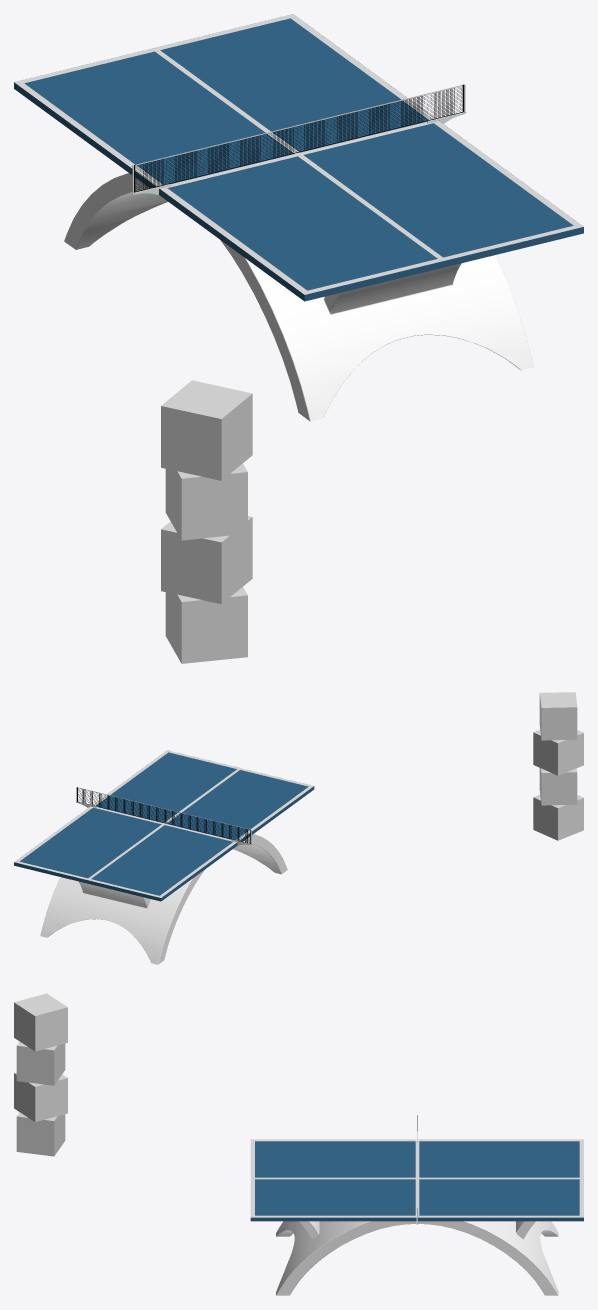
3 views of the same model, one above another, from view 1: azimuth 30°, elevation 25°; view 2: azimuth 150°, elevation 25°; view 3: azimuth 270°, elevation 25° (orthographic). The views are drawn at different scales.
Parts seen in each view (by area): view 1: TableBase, TableStand, TableBorders, Cube.003, Chabka, Cube.001, Cube, Cube.002; view 2: TableBase, TableStand, TableBorders, Cube.003, Cube, Cube.002, Chabka, Cube.001; view 3: TableBase, TableStand, TableBorders, Cube.003, Cube.001, Cube, Cube.002.
Part boxes in pixels (box(x1,y1,x2,y2)): TableBase: box(14, 18, 583, 301); TableStand: box(64, 173, 533, 421); TableBorders: box(14, 14, 583, 294); Cube.003: box(161, 380, 252, 480); Chabka: box(136, 86, 461, 190); Cube.001: box(161, 516, 252, 604); Cube: box(165, 587, 247, 663); Cube.002: box(165, 463, 247, 540); TableBase: box(14, 752, 314, 901); TableStand: box(40, 834, 287, 964); TableBorders: box(14, 750, 313, 897); Cube.003: box(539, 692, 577, 740); Cube: box(533, 794, 583, 840); Cube.002: box(533, 729, 583, 775); Chabka: box(78, 788, 250, 842); Cube.001: box(539, 768, 577, 805); TableBase: box(250, 1141, 583, 1221); TableStand: box(276, 1221, 558, 1295); TableBorders: box(250, 1139, 583, 1217); Cube.003: box(14, 993, 67, 1051); Cube.001: box(14, 1072, 67, 1122); Cube: box(16, 1112, 65, 1156); Cube.002: box(16, 1041, 65, 1085).
Size of what is drawn, in the model's own units: 6.84 by 2.57 by 9.37.
